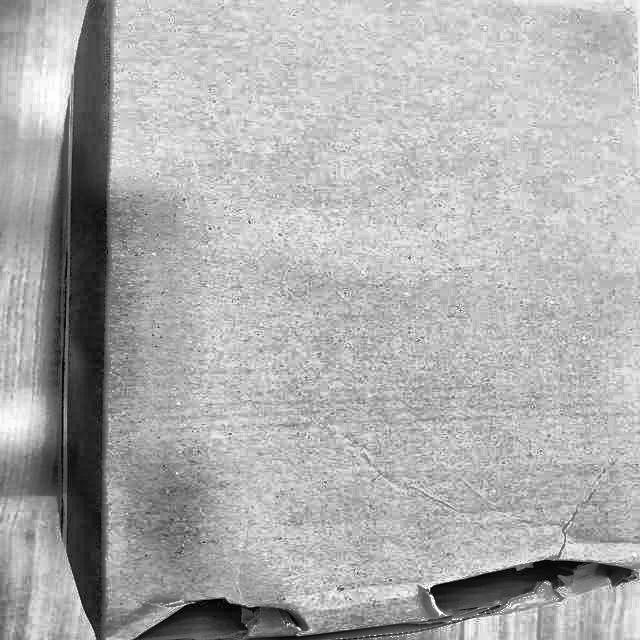box: (50, 0, 639, 639)
hole: (414, 552, 638, 618), (114, 598, 311, 640)
